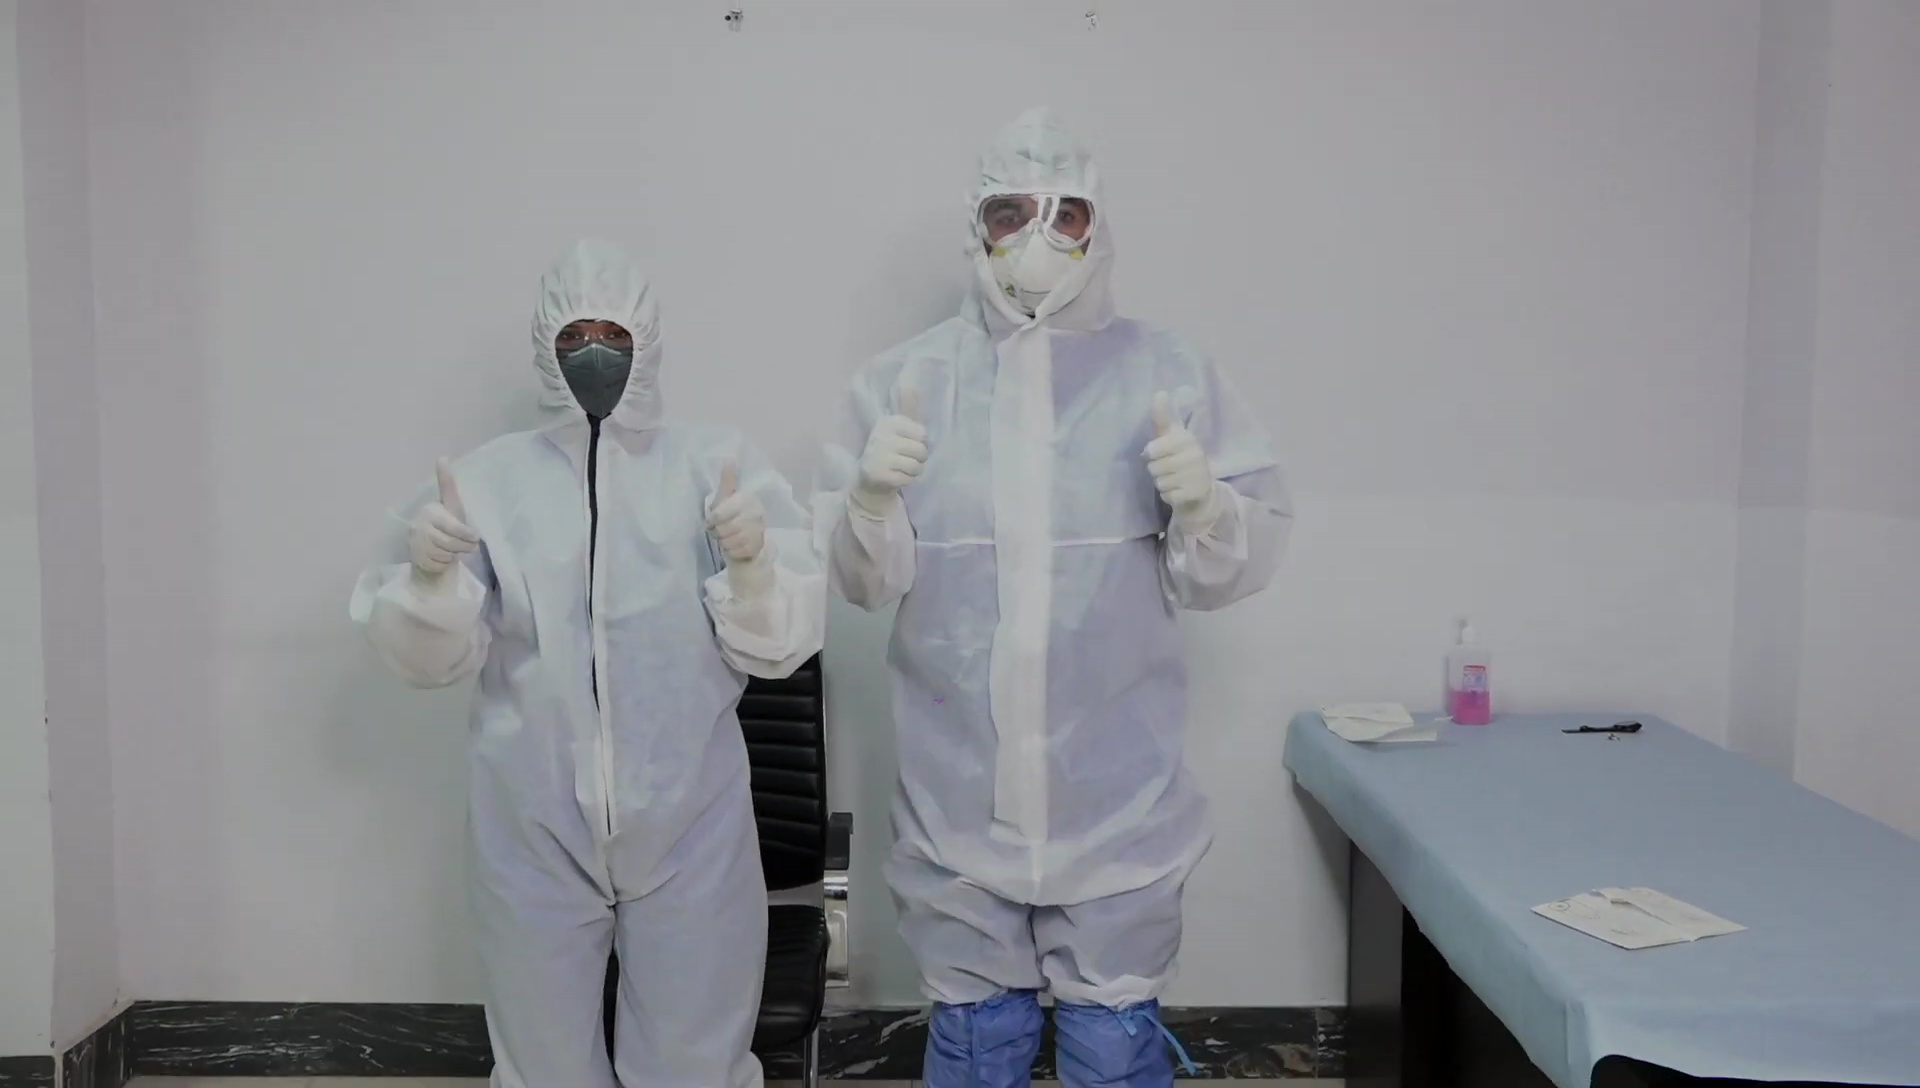Coverall: (809, 105, 1291, 1085), (346, 237, 823, 1082)
Gloves: (859, 371, 934, 507), (1142, 385, 1216, 514), (402, 462, 480, 580), (706, 451, 769, 565)
Goggles: (974, 186, 1100, 255)
with_mask: (988, 214, 1087, 317), (564, 341, 634, 417)
